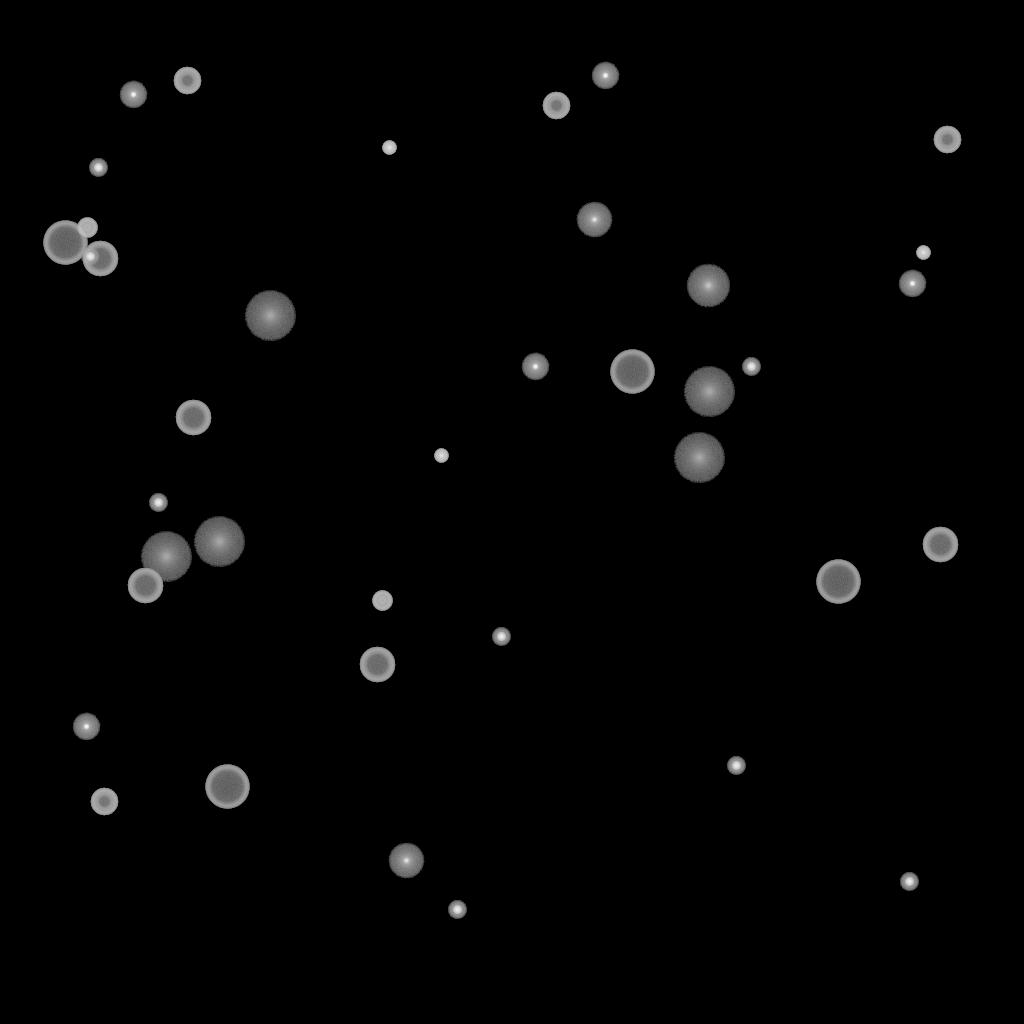depth:-10: (521, 353, 549, 381), (72, 713, 100, 741), (119, 81, 147, 109), (898, 270, 926, 298), (591, 62, 619, 90)
depth:-20: (900, 873, 918, 891), (81, 248, 99, 266), (742, 358, 760, 376), (448, 901, 466, 919), (727, 757, 745, 775), (492, 628, 510, 646), (89, 159, 107, 177), (149, 494, 167, 512)
depth:-30: (916, 246, 930, 260), (434, 449, 448, 463), (382, 141, 396, 155)
depth:-40: (77, 218, 97, 238), (372, 591, 392, 611)
depth:-50: (90, 788, 118, 816), (542, 92, 570, 120), (173, 67, 201, 95), (933, 126, 961, 154)
depth:-60: (922, 527, 958, 563), (175, 400, 211, 436), (359, 647, 395, 683), (82, 241, 118, 277), (127, 568, 163, 604)
depth:-70: (205, 765, 249, 809), (610, 350, 654, 394), (816, 560, 860, 604), (43, 221, 87, 265)
depth:0: (388, 843, 424, 879), (576, 202, 612, 238)
depth:10: (686, 264, 730, 308)
depth:20: (140, 532, 192, 582), (673, 433, 725, 483), (244, 291, 296, 341), (683, 367, 735, 417), (193, 517, 245, 567)
